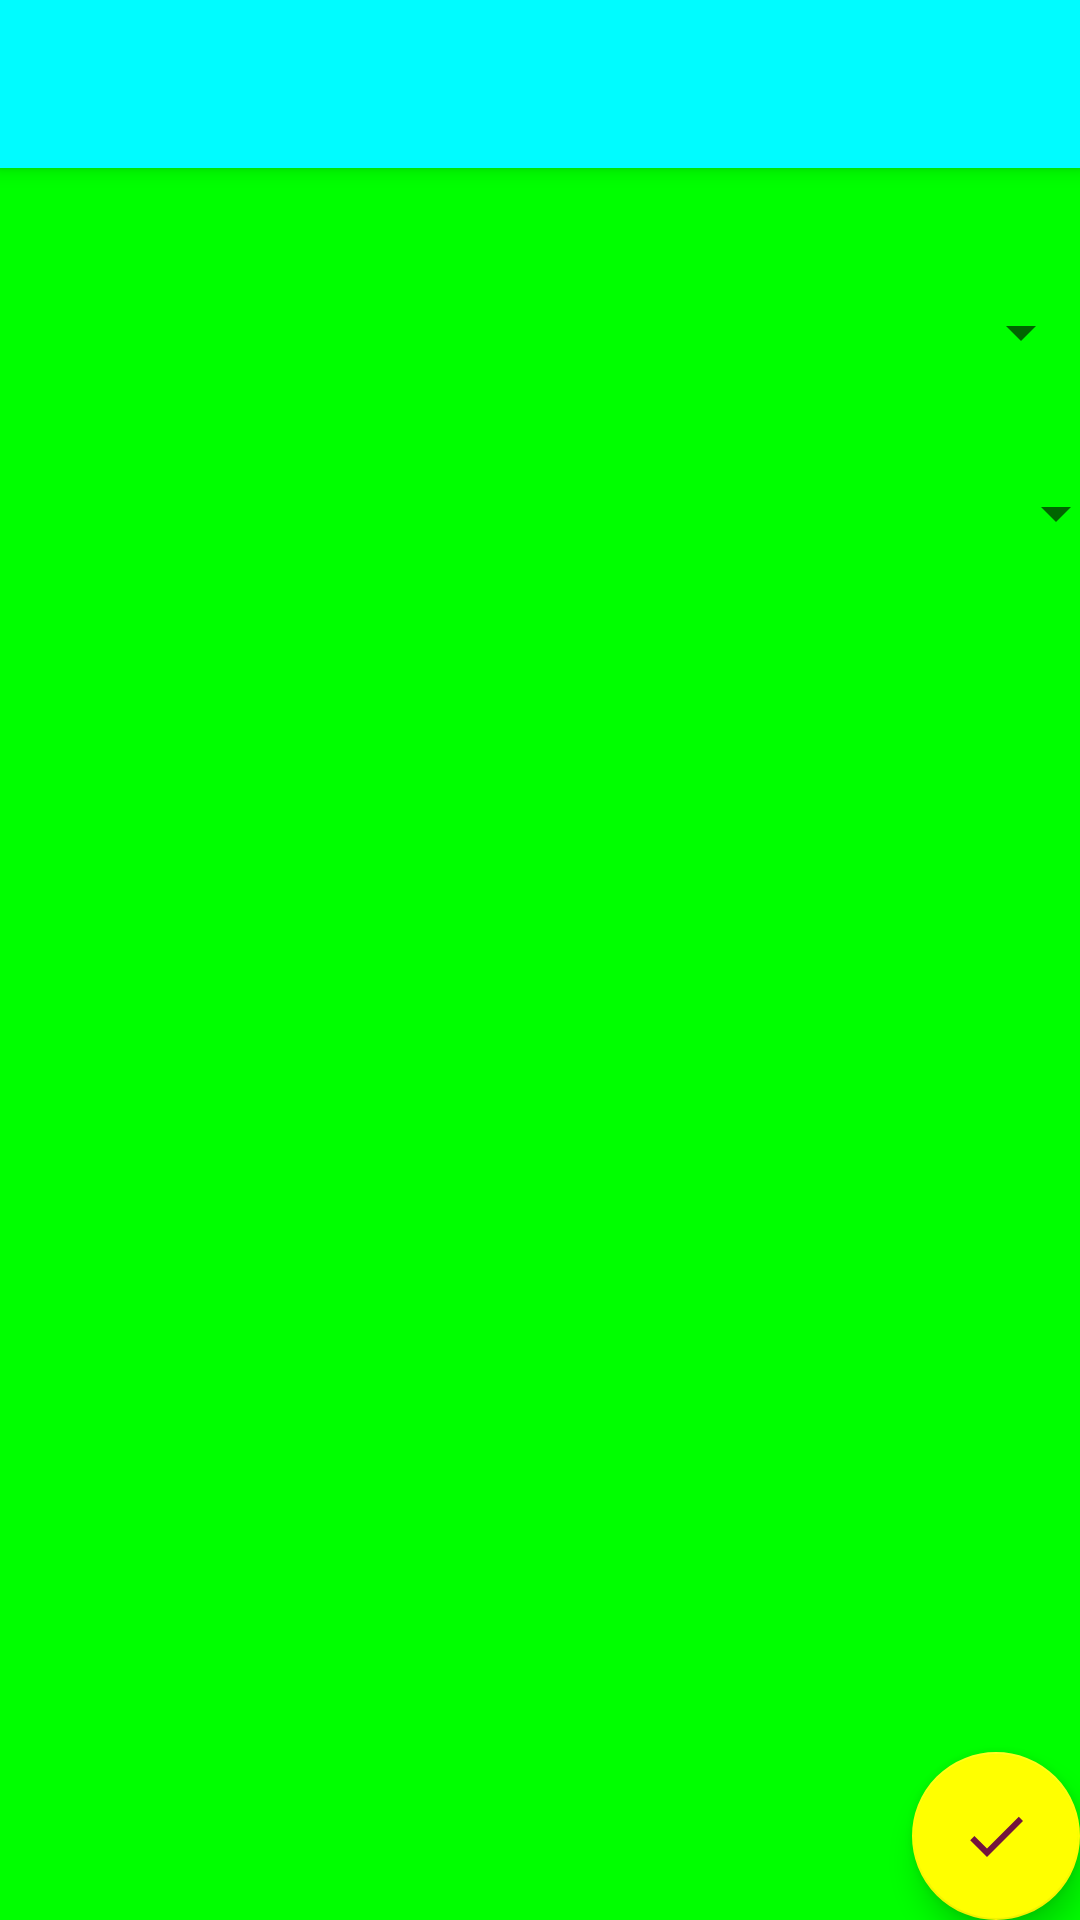

Point at icon controls on the screen. Image size 1080×1920, points as (x=x, y=y).
done: (x=996, y=1836)
